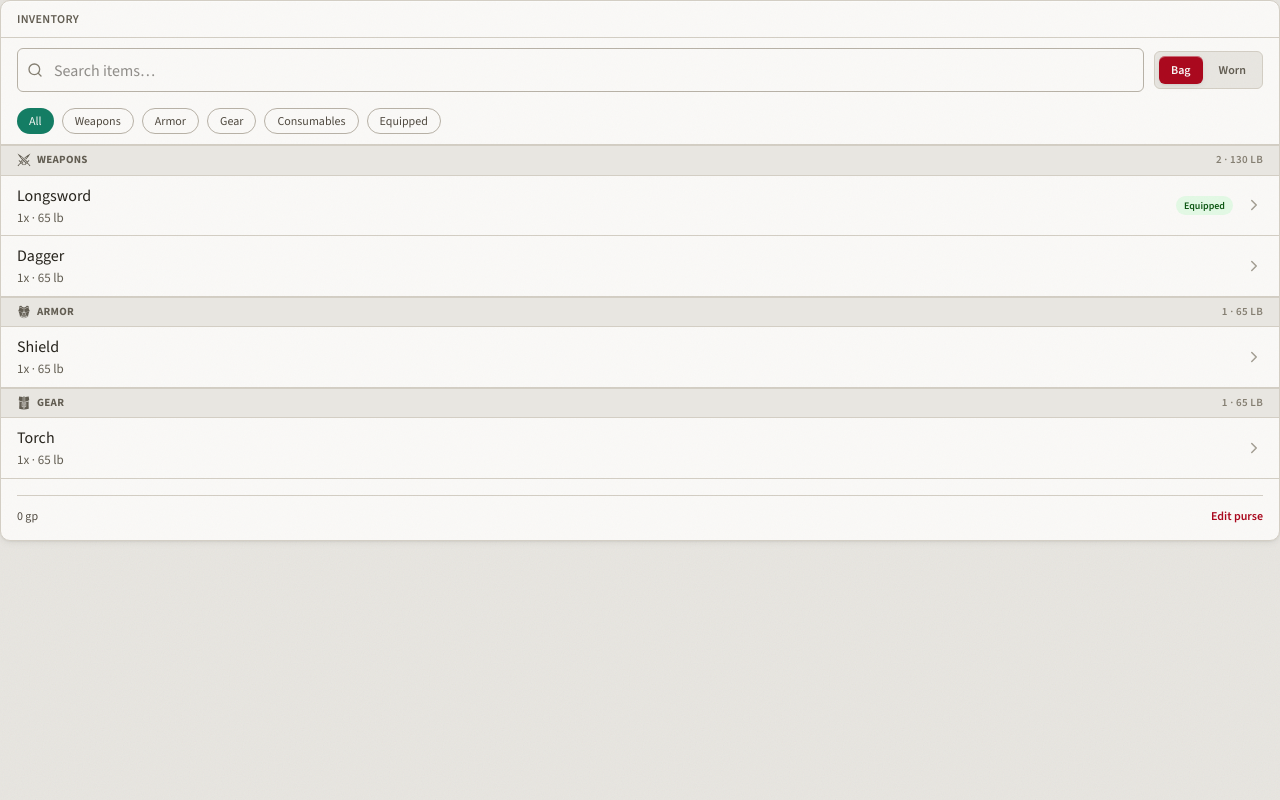
Test: InventoryList search and filter › filters by a category chip
Click the button "Armor" at coordinates (170, 121), box x1=142 y1=108 x2=199 y2=134
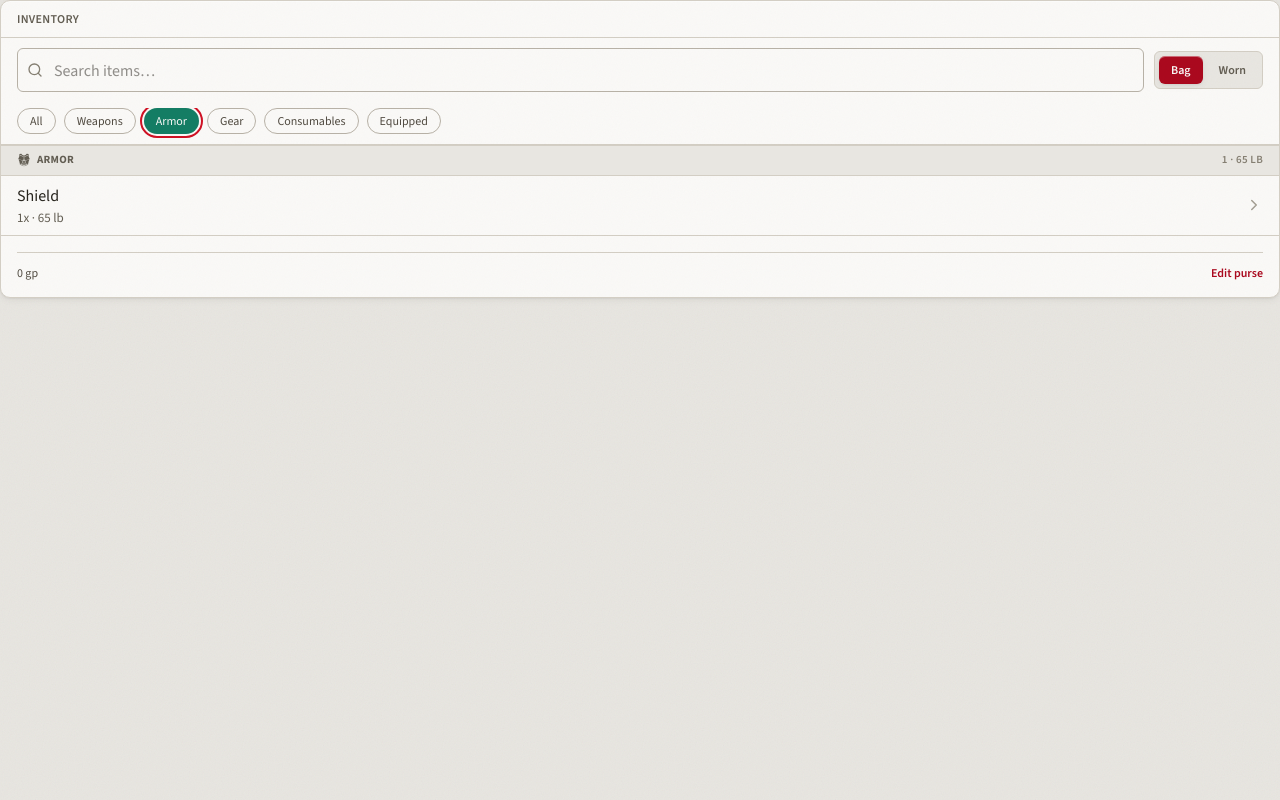
Expected: the text "Shield" is shown, x1=17 y1=184 x2=59 y2=206
Result: the button "Longsword" is gone
Result: the button "Torch" is gone
